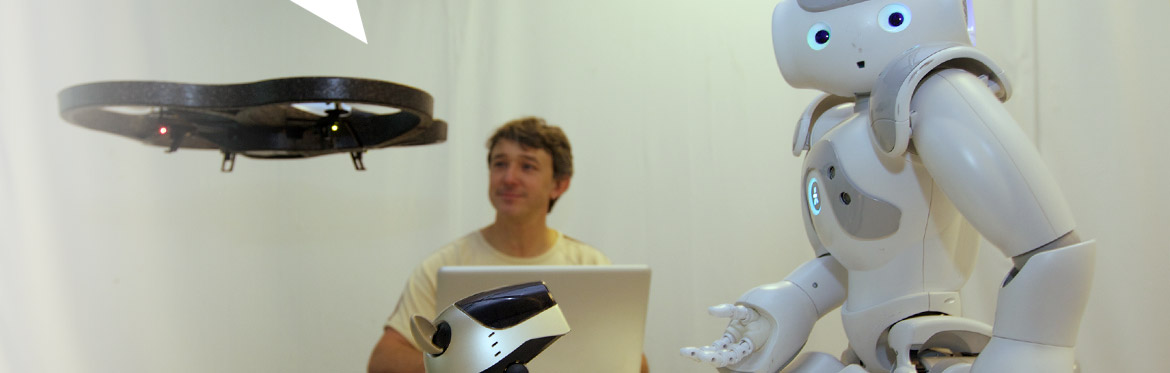nao: (675, 1, 1106, 373)
